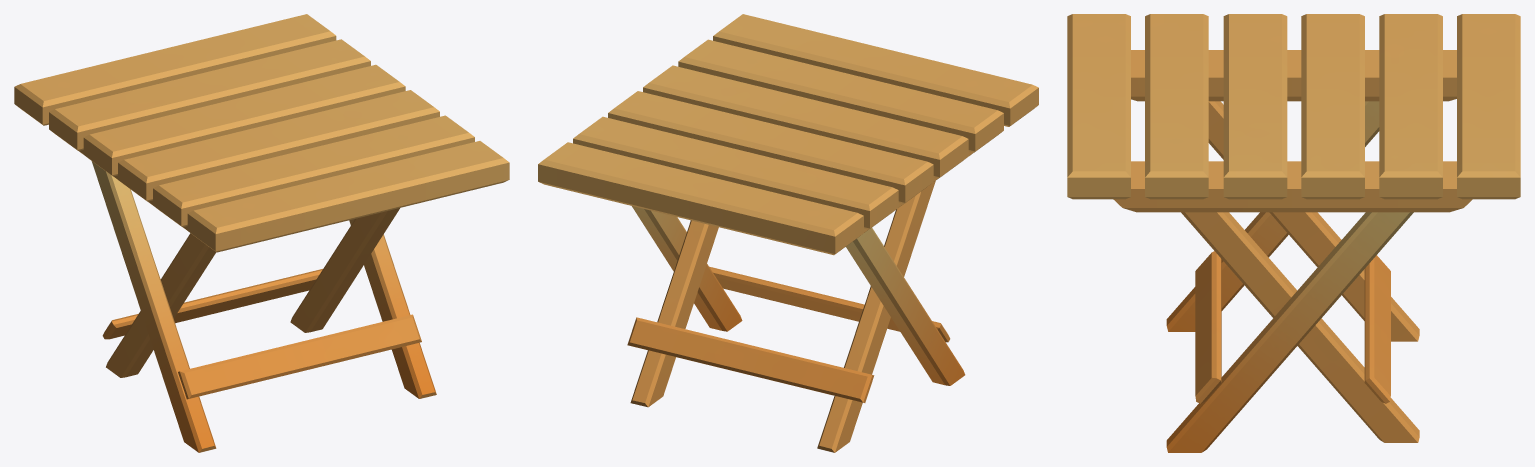
File: ENV_BeachTable.fbx
3 views of the same model, side by side, from view 1: azimuth 30°, elevation 25°; view 2: azimuth 150°, elevation 25°; view 3: azimuth 270°, elevation 25° (orthographic). The views are drawn at different scales.
Visible parts, largest first — view 1: Beach_Table; view 2: Beach_Table; view 3: Beach_Table.
Boxes of the visible parts, bbox=[...] form: Beach_Table: bbox=[14, 14, 509, 452]; Beach_Table: bbox=[538, 14, 1038, 452]; Beach_Table: bbox=[1067, 14, 1520, 452].
Bounding box in the file's own units: 80.43 × 68.54 × 95.47.
